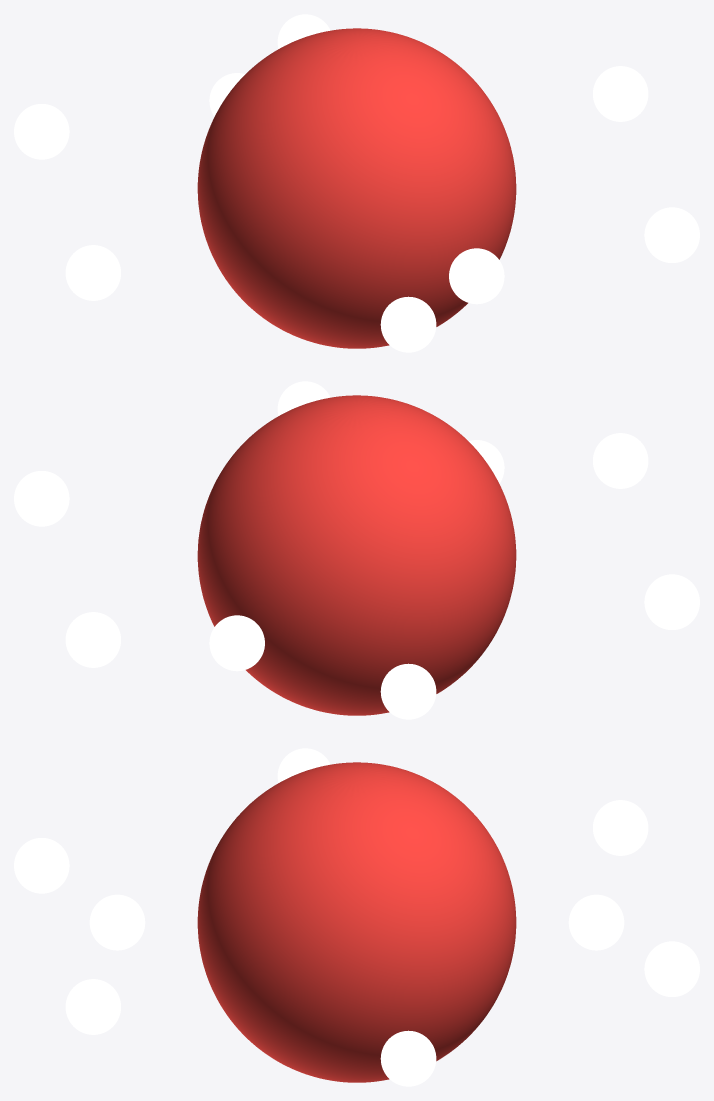
Rendered from oxygen.glb.
3 renders of one model, top to bottom at view 1: azimuth 30°, elevation 25°; view 2: azimuth 150°, elevation 25°; view 3: azimuth 270°, elevation 25°, orthographic.
Visible parts, largest first — view 1: Oxygen, e out, e in; view 2: Oxygen, e out, e in; view 3: Oxygen, e out, e in.
Boxes of the visible parts, <box> form: Oxygen: <box>197,28,516,348</box>; e out: <box>14,14,699,352</box>; e in: <box>209,73,504,304</box>; Oxygen: <box>197,395,516,715</box>; e out: <box>14,381,699,719</box>; e in: <box>209,440,504,671</box>; Oxygen: <box>197,762,516,1082</box>; e out: <box>14,748,699,1086</box>; e in: <box>89,894,624,950</box>.
Size of the model in its own units: 8.2 by 3.65 by 7.77.
